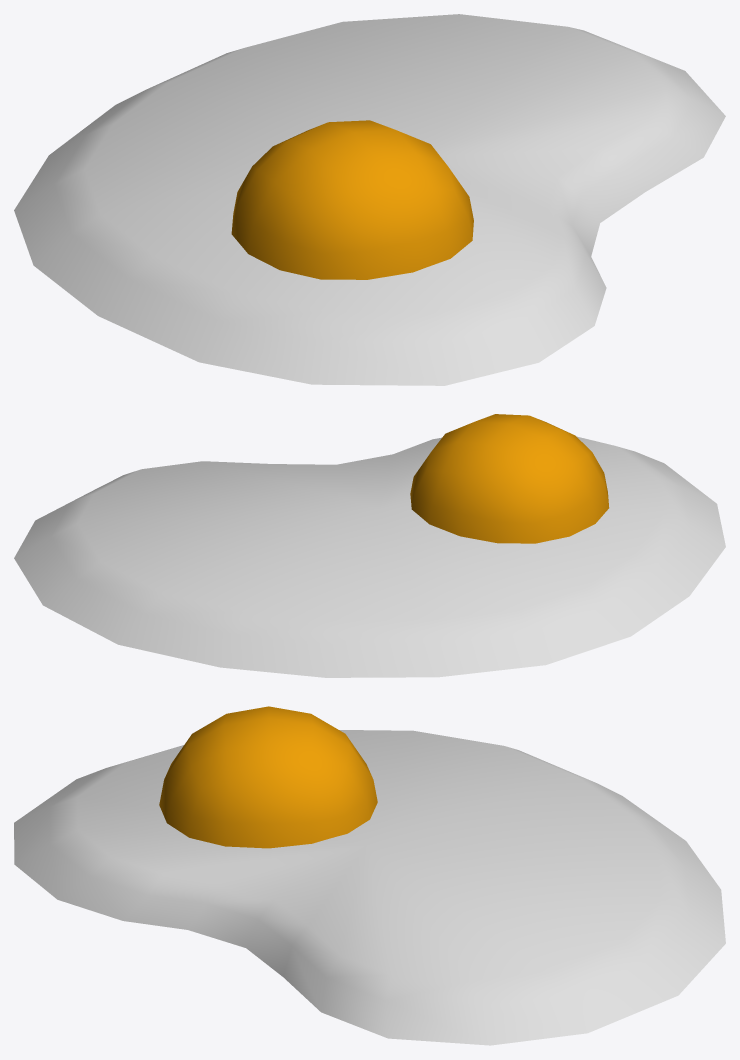
File: egg_ready.fbx
3 renders of one model, top to bottom at view 1: azimuth 30°, elevation 25°; view 2: azimuth 150°, elevation 25°; view 3: azimuth 270°, elevation 25°, orthographic. The views are drawn at different scales.
Visible parts, largest first — view 1: Cube.005; view 2: Cube.005; view 3: Cube.005.
Boxes of the visible parts, x1,y1,x2,y2 form: Cube.005: [14, 14, 725, 385]; Cube.005: [14, 414, 725, 677]; Cube.005: [14, 706, 725, 1045].
Size of the model in its own units: 4.7 by 4.61 by 0.9009.
